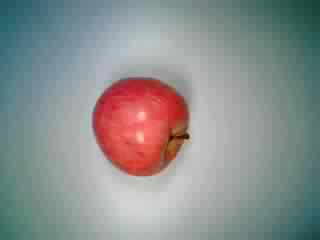apple: (92, 76, 196, 177)
